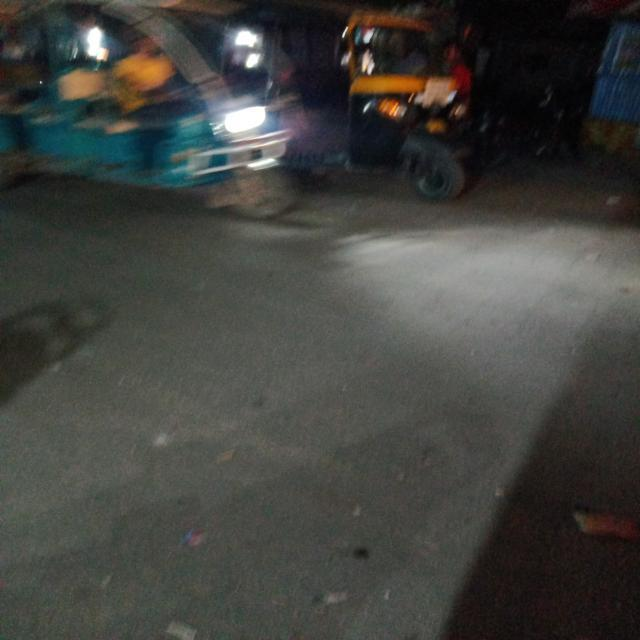auto_front: (0, 0, 323, 226), (298, 0, 486, 205)
